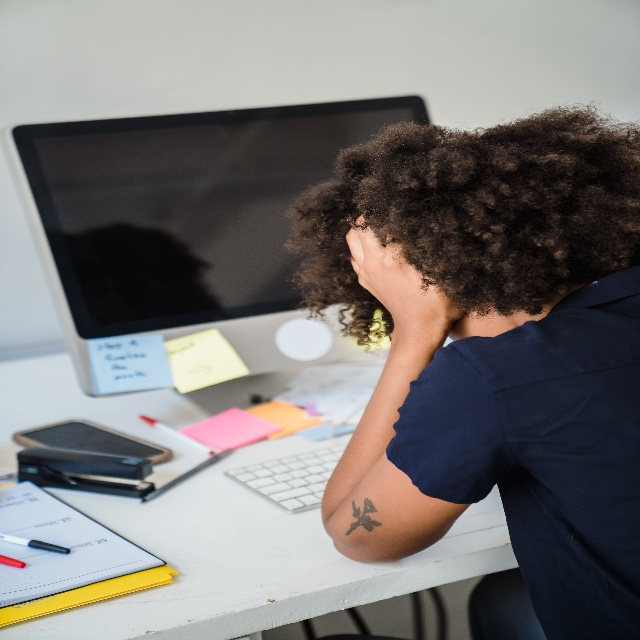Sin_guantes: (342, 210, 466, 325)
